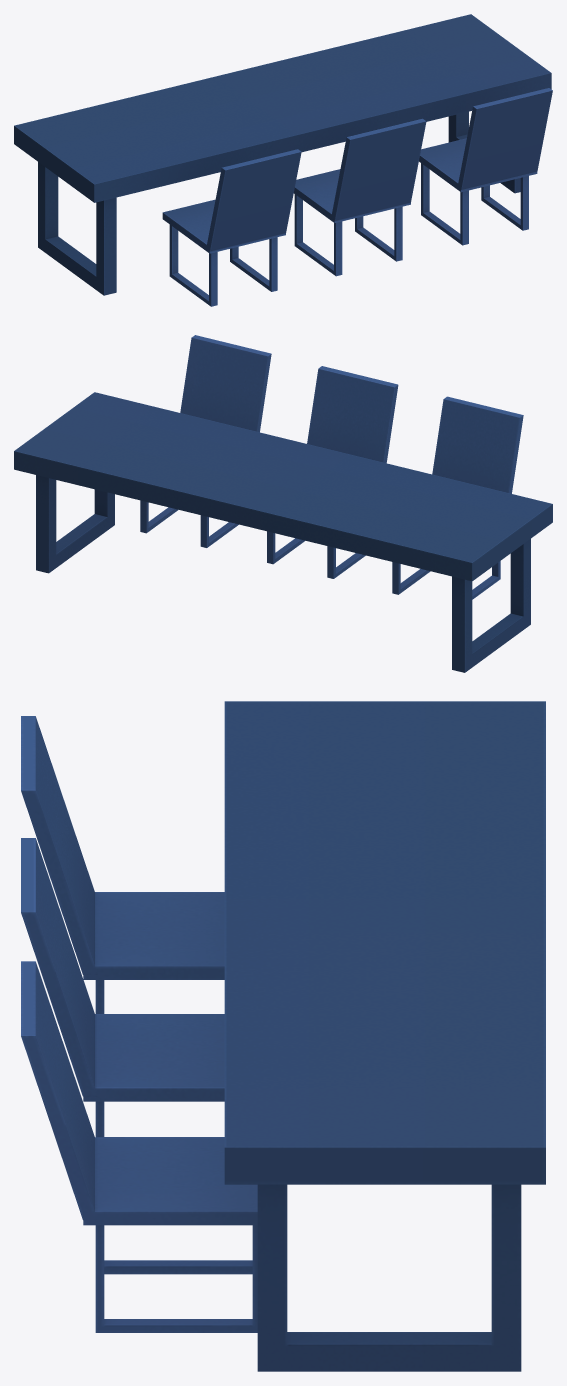
The model's file is table02_03.fbx.
3 views of the same model, one above another, from view 1: azimuth 30°, elevation 25°; view 2: azimuth 150°, elevation 25°; view 3: azimuth 270°, elevation 25° (orthographic). The views are drawn at different scales.
Parts seen in each view (by area): view 1: polySurface2; view 2: polySurface2; view 3: polySurface2.
Boxes of the visible parts, left/top/right/bottom form: polySurface2: left=14, top=14, right=552, bottom=306; polySurface2: left=14, top=335, right=552, bottom=672; polySurface2: left=21, top=701, right=545, bottom=1371.
Size of the model in its own units: 49.46 by 15.65 by 24.6.
Materials: 1 (1 with a texture image).
